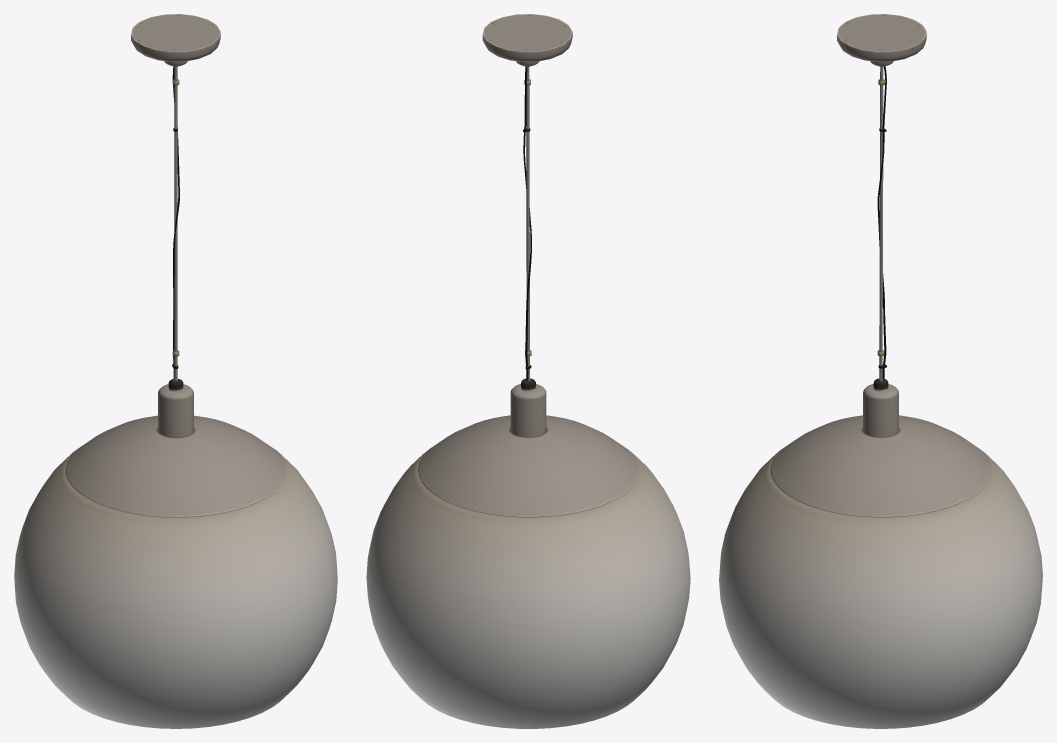
3 views of the same model, side by side, from view 1: azimuth 30°, elevation 25°; view 2: azimuth 150°, elevation 25°; view 3: azimuth 270°, elevation 25° (orthographic).
Parts seen in each view (by area): view 1: modern_ceiling_lamp_01; view 2: modern_ceiling_lamp_01; view 3: modern_ceiling_lamp_01.
Part boxes in pixels (x1,y1,x2,y2): modern_ceiling_lamp_01: (14, 14, 337, 728); modern_ceiling_lamp_01: (366, 14, 690, 728); modern_ceiling_lamp_01: (719, 14, 1042, 728).
Size of the model in its own units: 0.4316 by 0.9516 by 0.4317.
3 materials, 3 textured.
